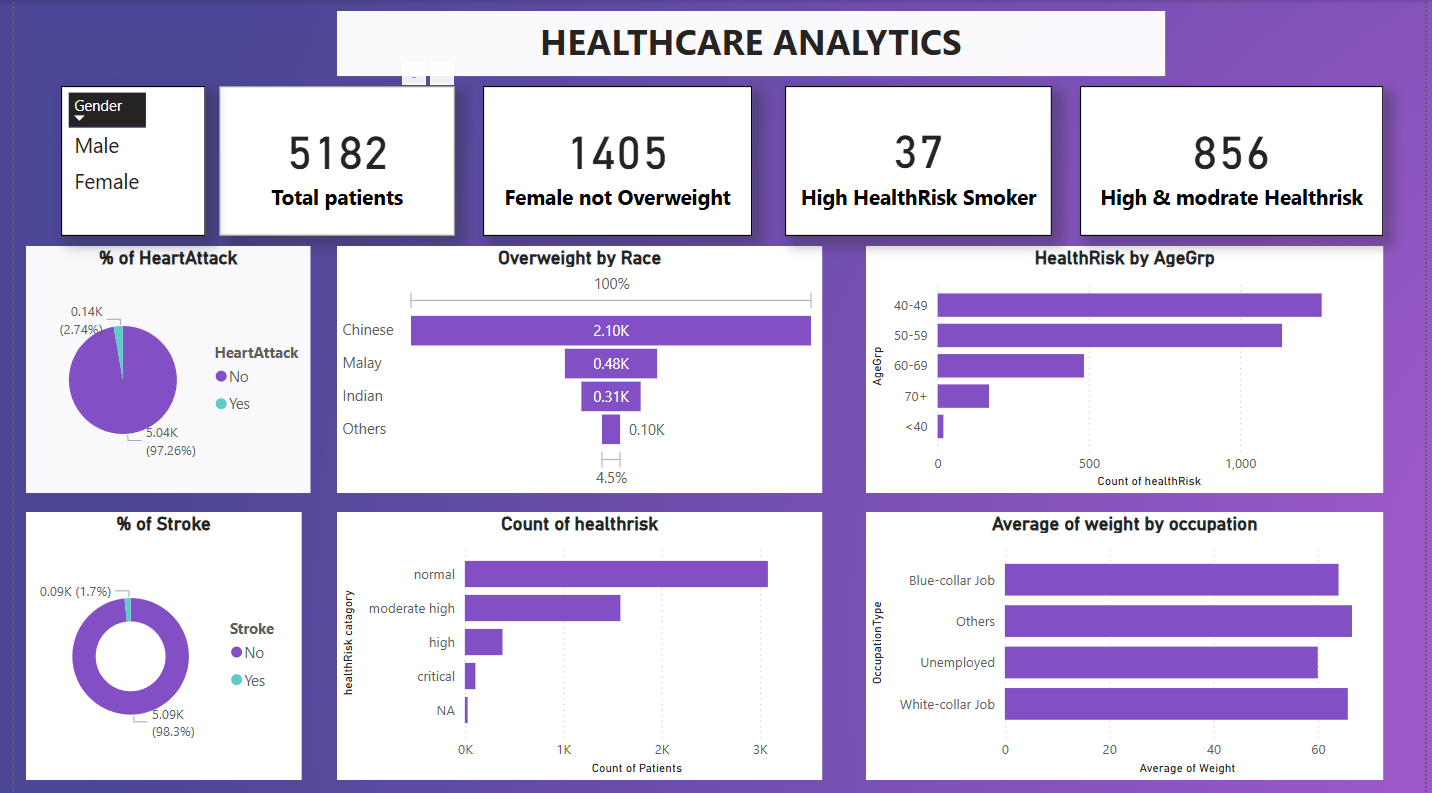

The page's visual inventory and layout, read from the dashboard file:
{"tool":"powerbi","page":{"name":"Page 1","canvas":[1280,720],"ordinal":0},"visuals":[{"type":"card","fields":{"Values":["CountNonNull(Sample_Data.Gender)"]},"box":[185.9,78,214,136],"z":0},{"type":"pieChart","title":"% of HeartAttack ","fields":{"Category":["Sample_Data.HeartAttack"],"Y":["CountNonNull(Sample_Data.HeartAttack)"]},"box":[10.5,223,257.9,224.2],"z":1000},{"type":"donutChart","title":"% of Stroke","fields":{"Category":["Sample_Data.Stroke"],"Y":["CountNonNull(Sample_Data.Stroke)"]},"box":[10.5,464.6,249.7,242.8],"z":2000},{"type":"card","fields":{"Values":["CountNonNull(Sample_Data.Overweight)"]},"box":[425.3,78,243.9,136],"z":3000},{"type":"barChart","title":"Count of healthrisk ","fields":{"Y":["CountNonNull(Sample_Data.healthRisk)"],"Category":["Sample_Data.healthRisk"]},"box":[292.7,464.6,440.2,242.8],"z":4000},{"type":"clusteredBarChart","title":"Average of weight by occupation","fields":{"Category":["Sample_Data.OccupationType"],"Y":["Avg(Sample_Data.Weight)"]},"box":[772.4,464.6,469.3,242.8],"z":5000},{"type":"funnel","title":"Overweight by Race","fields":{"Category":["Sample_Data.Race"],"Y":["CountNonNull(Sample_Data.Overweight)"]},"box":[292.7,223,440.2,224.2],"z":6000},{"type":"barChart","title":"HealthRisk by AgeGrp","fields":{"Category":["Sample_Data.AgeGrp"],"Y":["CountNonNull(Sample_Data.healthRisk)"]},"box":[772.4,223,469.3,224.2],"z":7000},{"type":"card","fields":{"Values":["CountNonNull(Sample_Data.Smoking)"]},"box":[699.1,78,242.1,136],"z":8000},{"type":"card","fields":{"Values":["CountNonNull(Sample_Data.Exercise)"]},"box":[966.6,78,274.8,136],"z":9000},{"type":"tableEx","fields":{"Values":["Sample_Data.Gender"]},"box":[42.6,78,131.5,136],"z":10000},{"type":"textbox","box":[292.9,10,750.8,58.9],"z":11000}]}

Visuals, with their boxes in screenshot pixels (x1, y1, x2, y2), scaled from the page's 1280x720 canvas onto the 1432x793 screenshot:
card - CountNonNull(Sample_Data.Gender): [208, 86, 447, 236]
"% of HeartAttack " pieChart: [12, 246, 300, 493]
"% of Stroke" donutChart: [12, 512, 291, 779]
card - CountNonNull(Sample_Data.Overweight): [476, 86, 749, 236]
"Count of healthrisk " barChart: [327, 512, 820, 779]
"Average of weight by occupation" clusteredBarChart: [864, 512, 1389, 779]
"Overweight by Race" funnel: [327, 246, 820, 493]
"HealthRisk by AgeGrp" barChart: [864, 246, 1389, 493]
card - CountNonNull(Sample_Data.Smoking): [782, 86, 1053, 236]
card - CountNonNull(Sample_Data.Exercise): [1081, 86, 1389, 236]
tableEx - Sample_Data.Gender: [48, 86, 195, 236]
textbox: [328, 11, 1168, 76]
